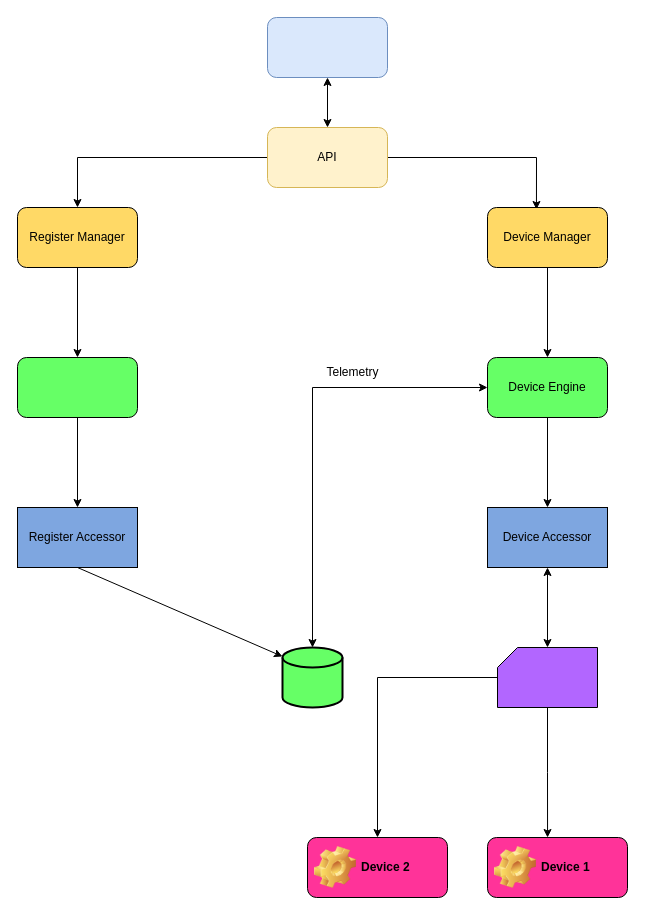
The diagram is 645 pixels wide and 915 high, and some of its shapes have lost their labels. Here are the shapes that lost their labels. From the top down, the centre of each, then its label:
point (327, 47): Client
point (77, 387): Register Engine
point (312, 677): Document
point (547, 677): Message Queue
